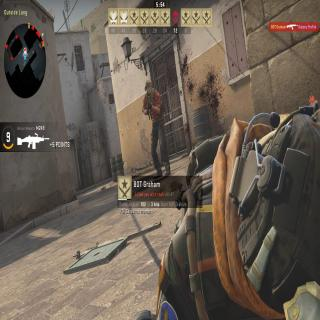T-Body: (142, 79, 173, 180)
T-Head: (144, 80, 154, 96)
